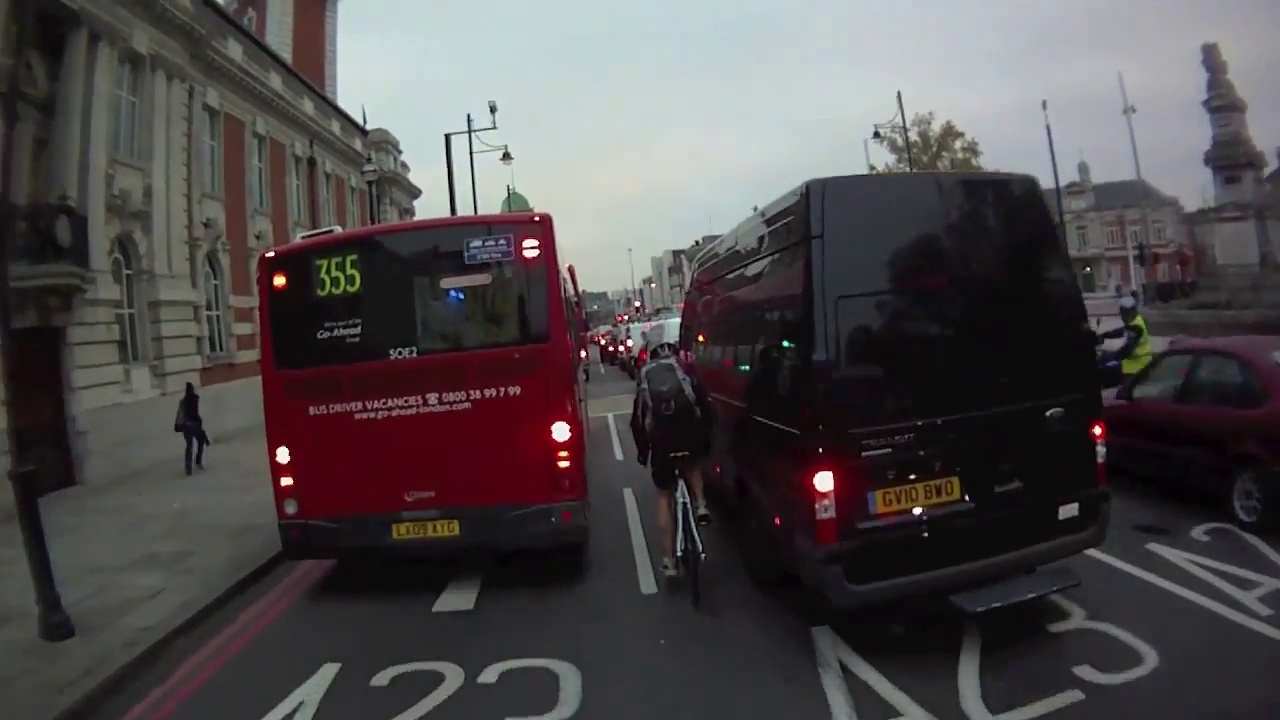cyclist_back: (618, 341, 732, 608)
